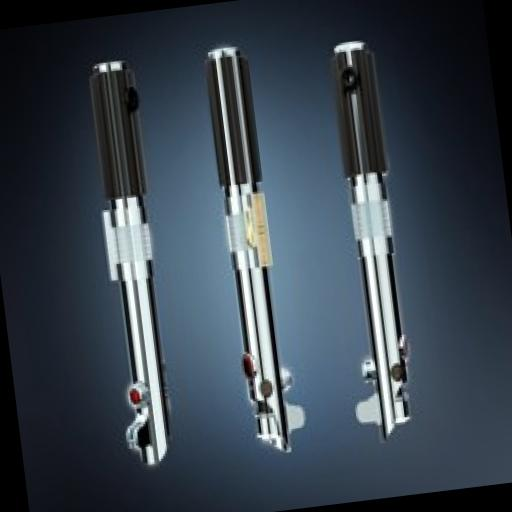lightsaber: (305, 31, 437, 448), (196, 36, 317, 465), (78, 54, 192, 473)
